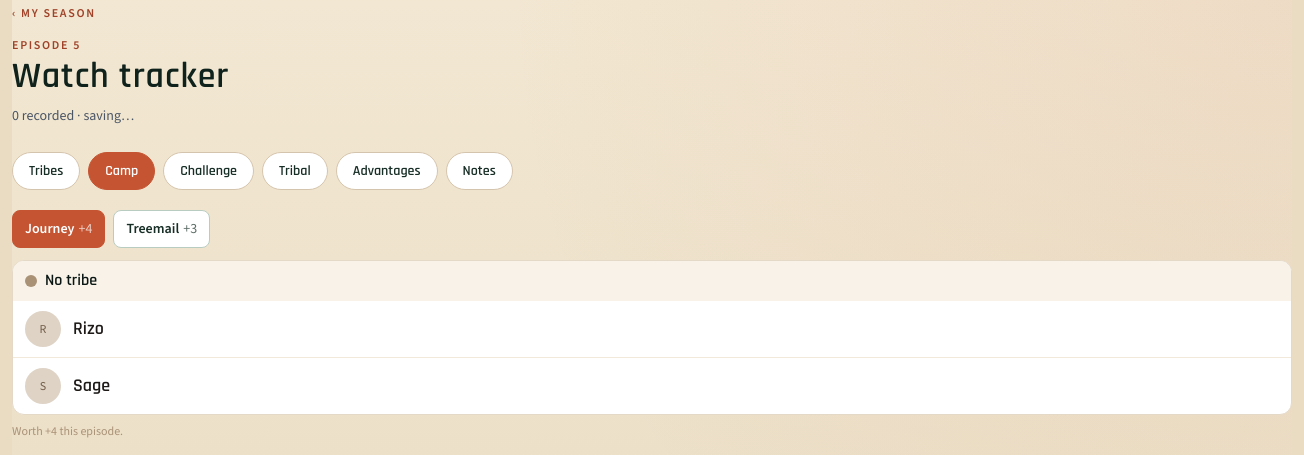
WatchPage › counts a per-unit chip and persists the new state shape
This screenshot has width=1304, height=455.
Step 1. Click the button "Camp" → click(122, 171), box [88,152,155,190]
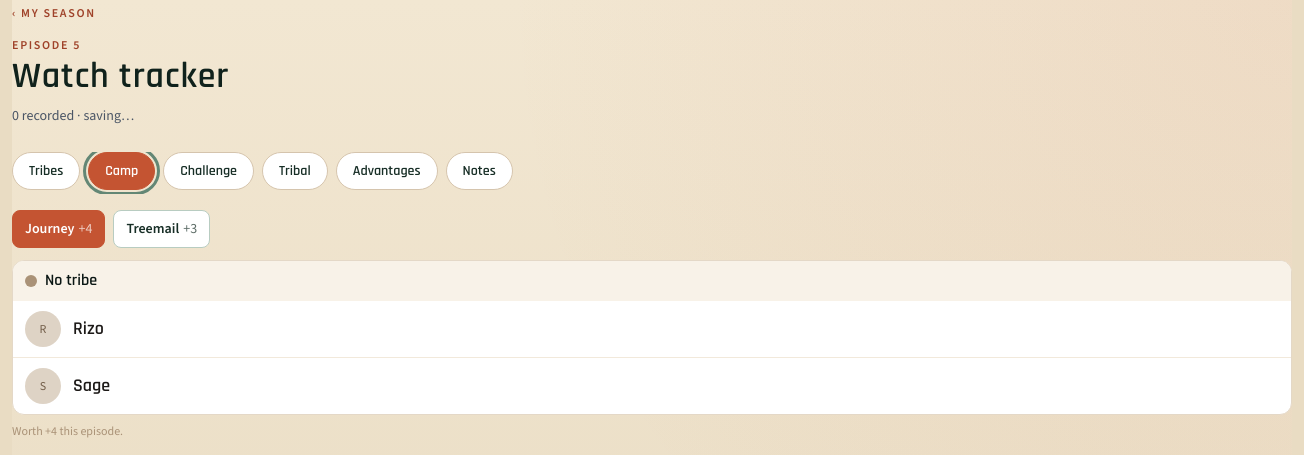
Step 2. Click the button "Treemail+3" → click(162, 229), box [113,210,210,248]
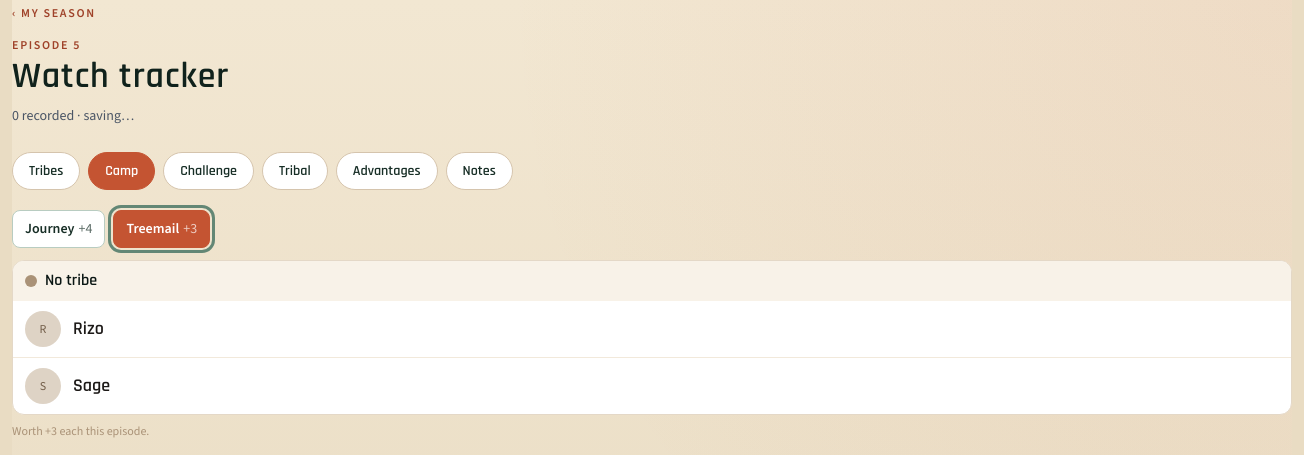
Step 3. Click the button "S Sage" → click(43, 386), box [13,358,1291,414]
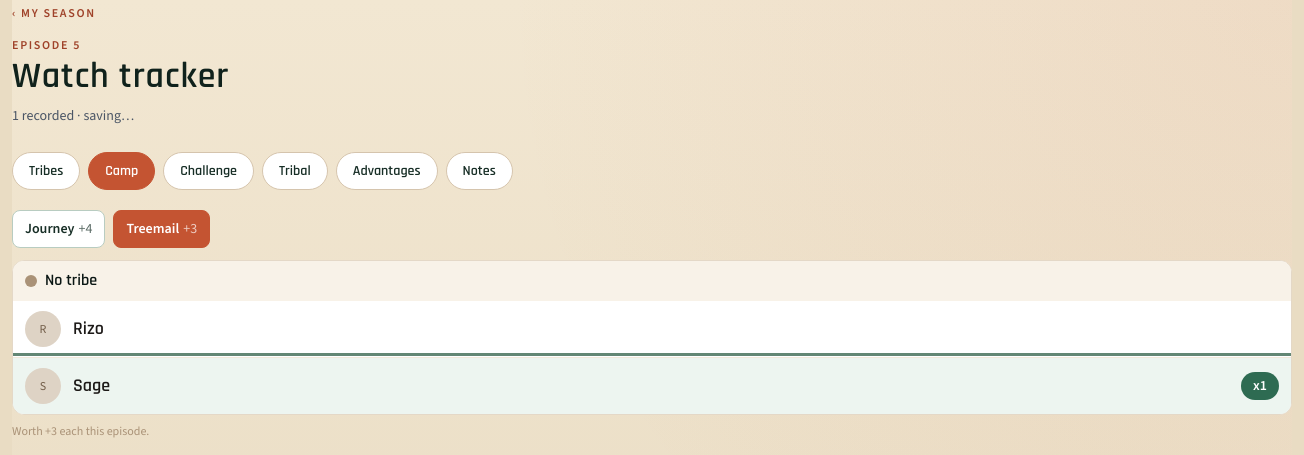
Step 4. Click the button "S Sage x1" → click(43, 386), box [13,358,1291,414]
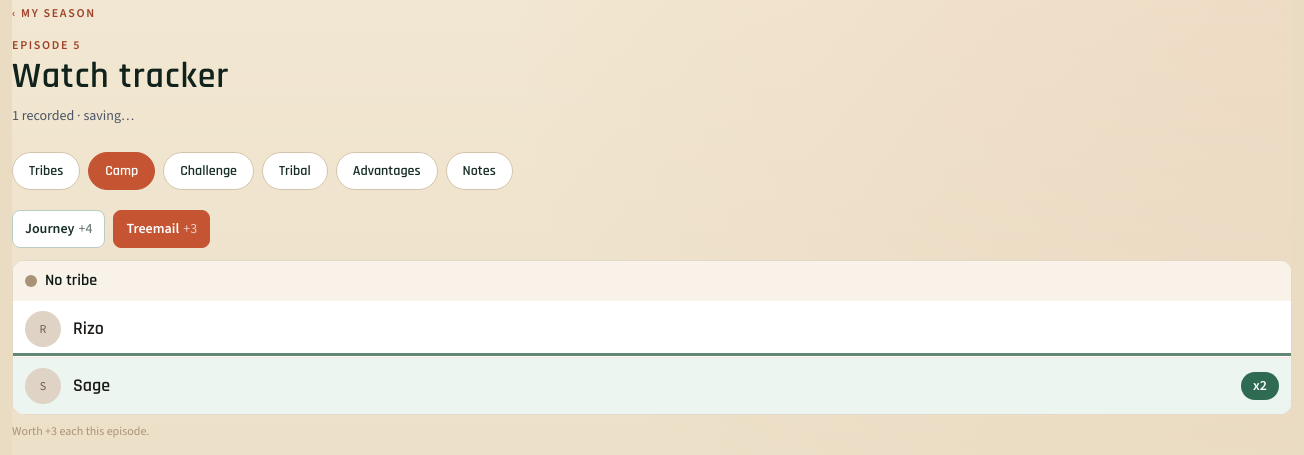
expect the text "x2" is shown: met, box [1241,372,1279,400]
